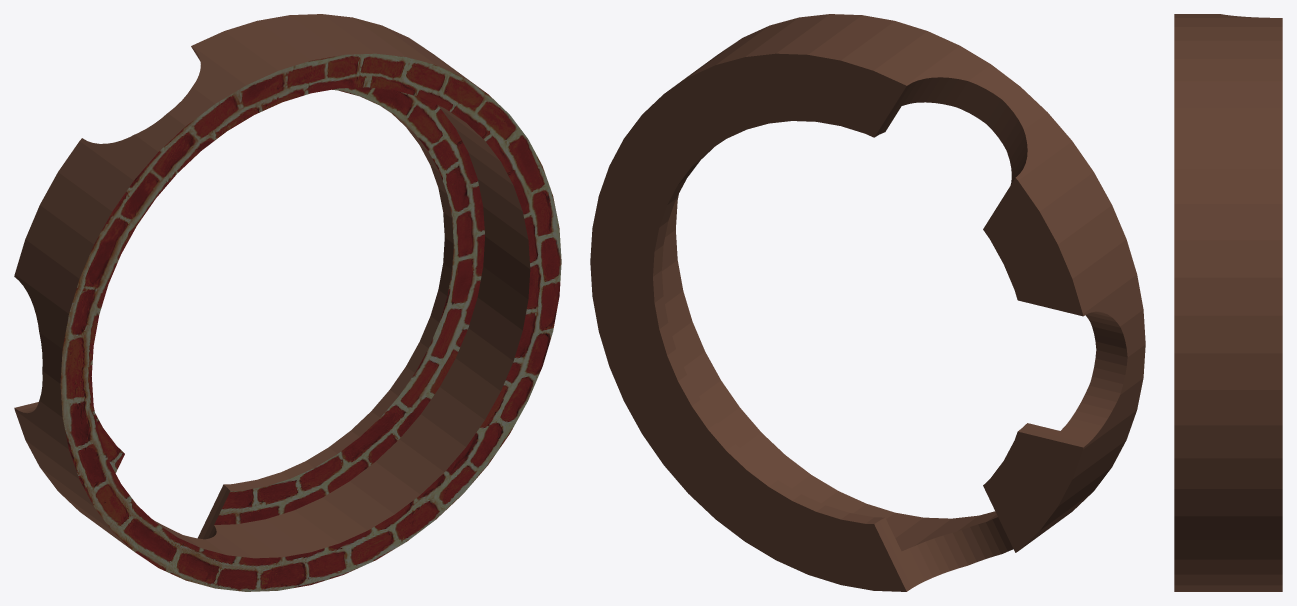
The model's file is pool_056.obj.
3 views of the same model, side by side, from view 1: azimuth 30°, elevation 25°; view 2: azimuth 150°, elevation 25°; view 3: azimuth 270°, elevation 25° (orthographic).
Bounding box in the file's own units: 16 × 16 × 3.
